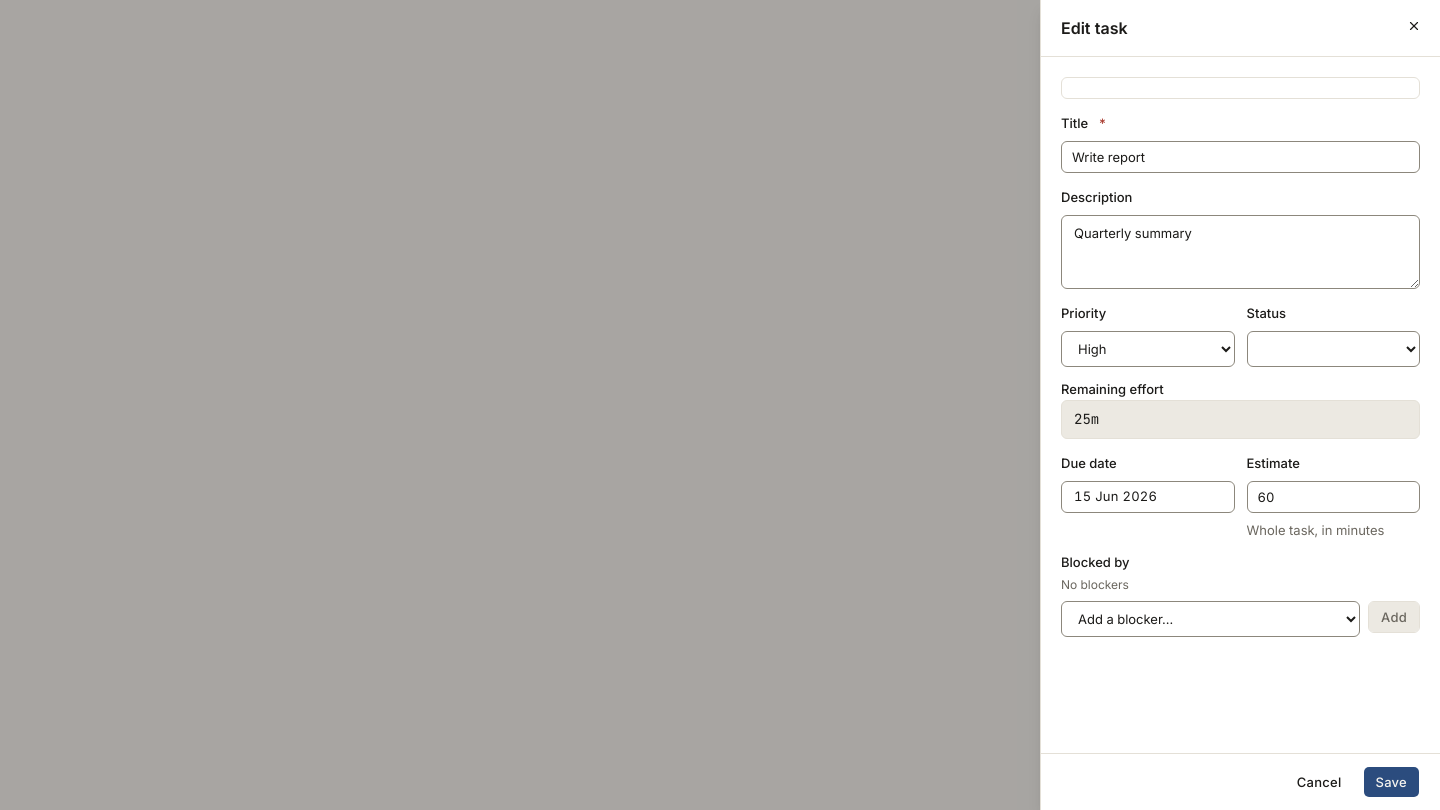
TaskEditorSheet › asks before discarding a dirty sheet and closes a clean one at once
This screenshot has width=1440, height=810.
Later steps or results of the test are not shown.
Step 1. Click the button "Cancel" → (1319, 782), box [1284, 766, 1354, 798]
Step 2. Replace the text in the field labelled "Title *" with "Changed title" → (1240, 157), box [1061, 141, 1420, 173]
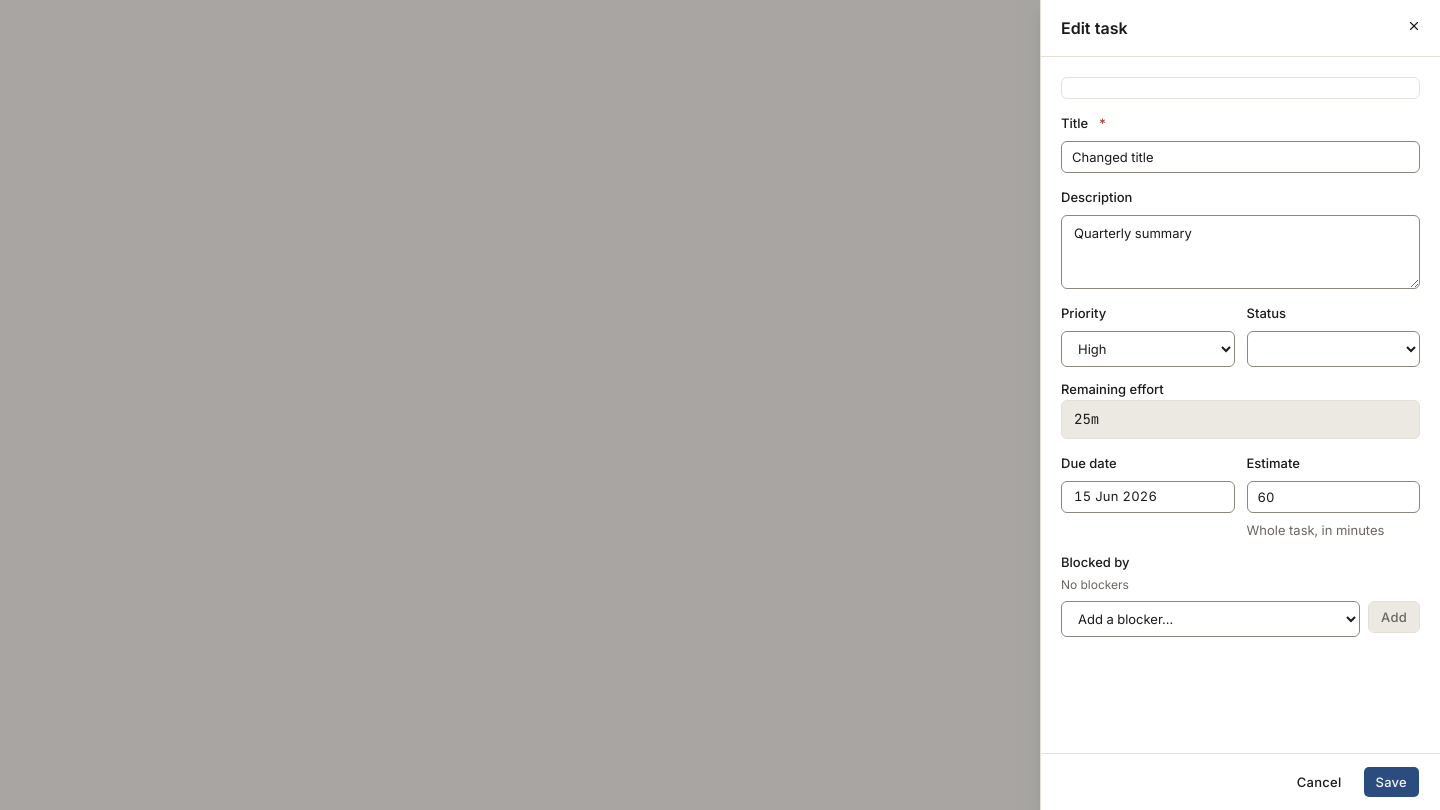
Step 3. Click the button "Cancel" → (1319, 782), box [1284, 766, 1354, 798]
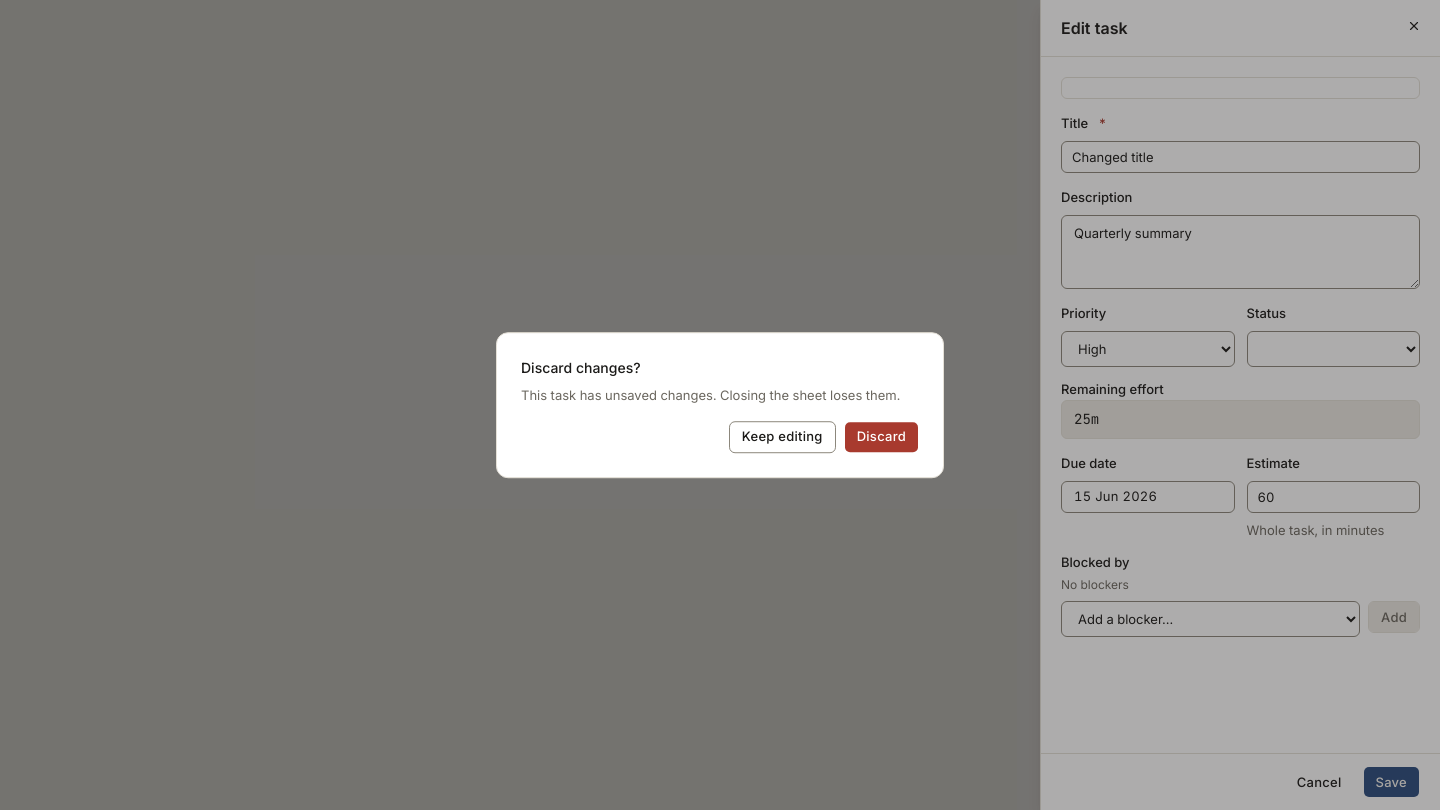
Result: the dialog "Discard" shows "unsaved changes" at [521, 387, 900, 403]
